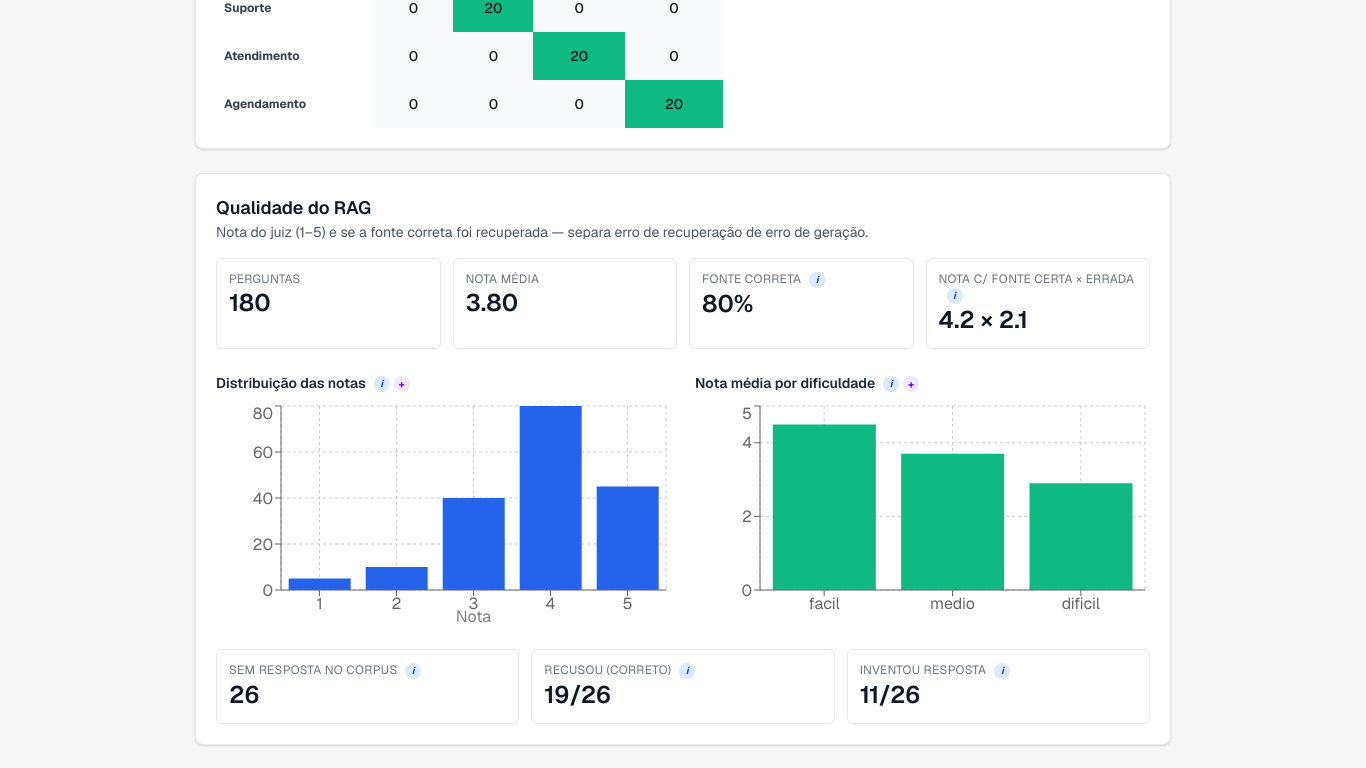
AvaliacaoPage — modal de detalhes dos gráficos › o badge '+' abre o modal com tabela de origem, motivo e trajetória
(page scrolled)
Expected: the heading "Distribuição das notas i +" is shown, [216,374,410,392]
Click the button named "Detalhes: Distribuição das notas": point(402, 384) [394,376,410,392]
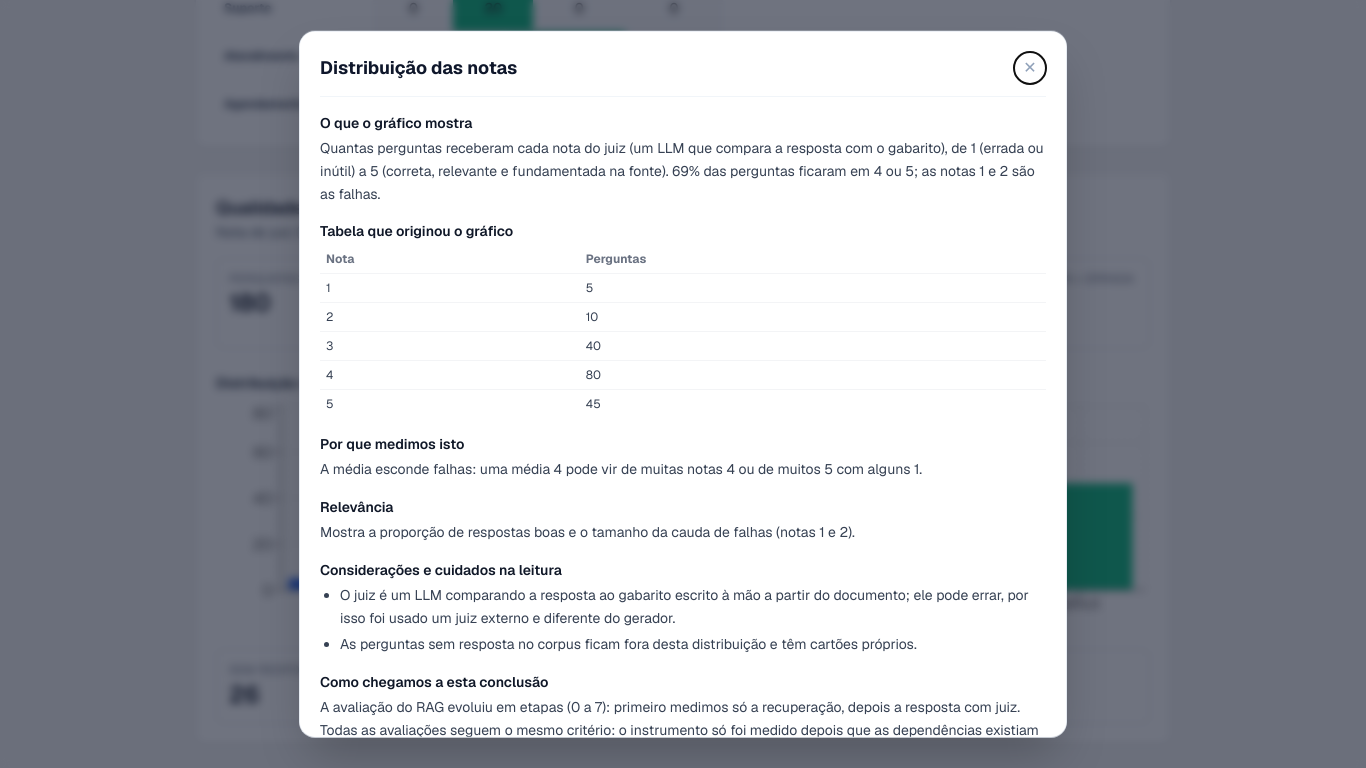
Expected: the dialog shows "Tabela que originou o gráfico", [320,222,513,240]
Expected: the dialog shows "Por que medimos isto", [320,435,464,453]
